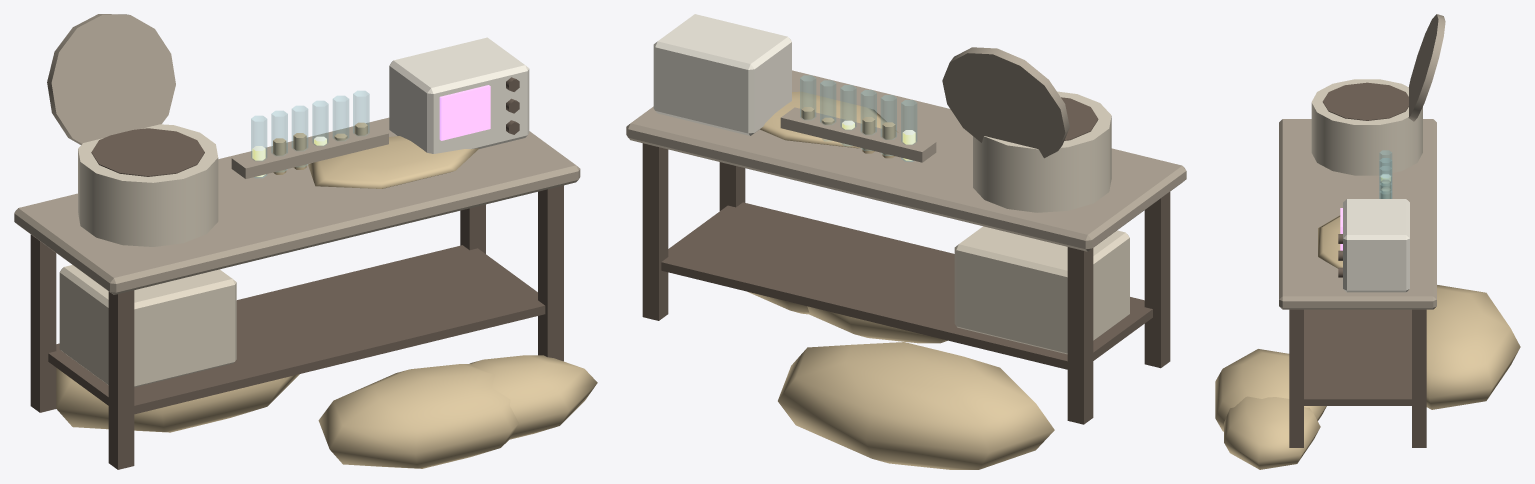
File: du_bench.glb
3 renders of one model, left to right at view 1: azimuth 30°, elevation 25°; view 2: azimuth 150°, elevation 25°; view 3: azimuth 270°, elevation 25°, orthographic. The views are drawn at different scales.
Visible parts, largest first — view 1: du_bench; view 2: du_bench; view 3: du_bench.
Boxes of the visible parts, x1,y1,x2,y2 form: du_bench: (14, 14, 597, 469); du_bench: (626, 14, 1186, 469); du_bench: (1215, 14, 1520, 469).
Bounding box in the file's own units: 2.31 × 1.98 × 1.64.
